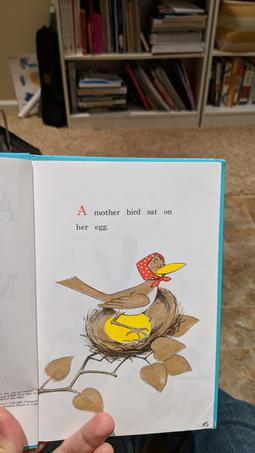text block: (60, 201, 179, 237)
